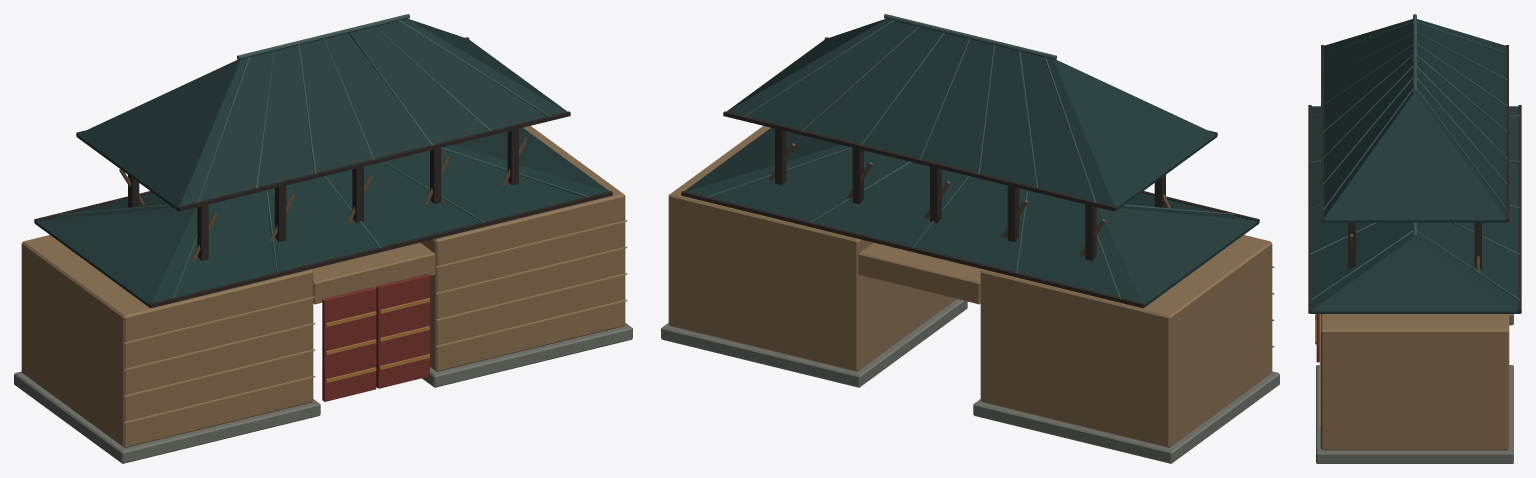
3 views of the same model, side by side, from view 1: azimuth 30°, elevation 25°; view 2: azimuth 150°, elevation 25°; view 3: azimuth 270°, elevation 25° (orthographic). The views are drawn at different scales.
Visible parts, largest first — view 1: visual_lod; view 2: visual_lod; view 3: visual_lod.
Boxes of the visible parts, x1,y1,x2,y2 form: visual_lod: (14,14,632,463); visual_lod: (661,14,1279,463); visual_lod: (1308,14,1521,463).
Size of the model in its own units: 27.7 by 16.96 by 10.96.
